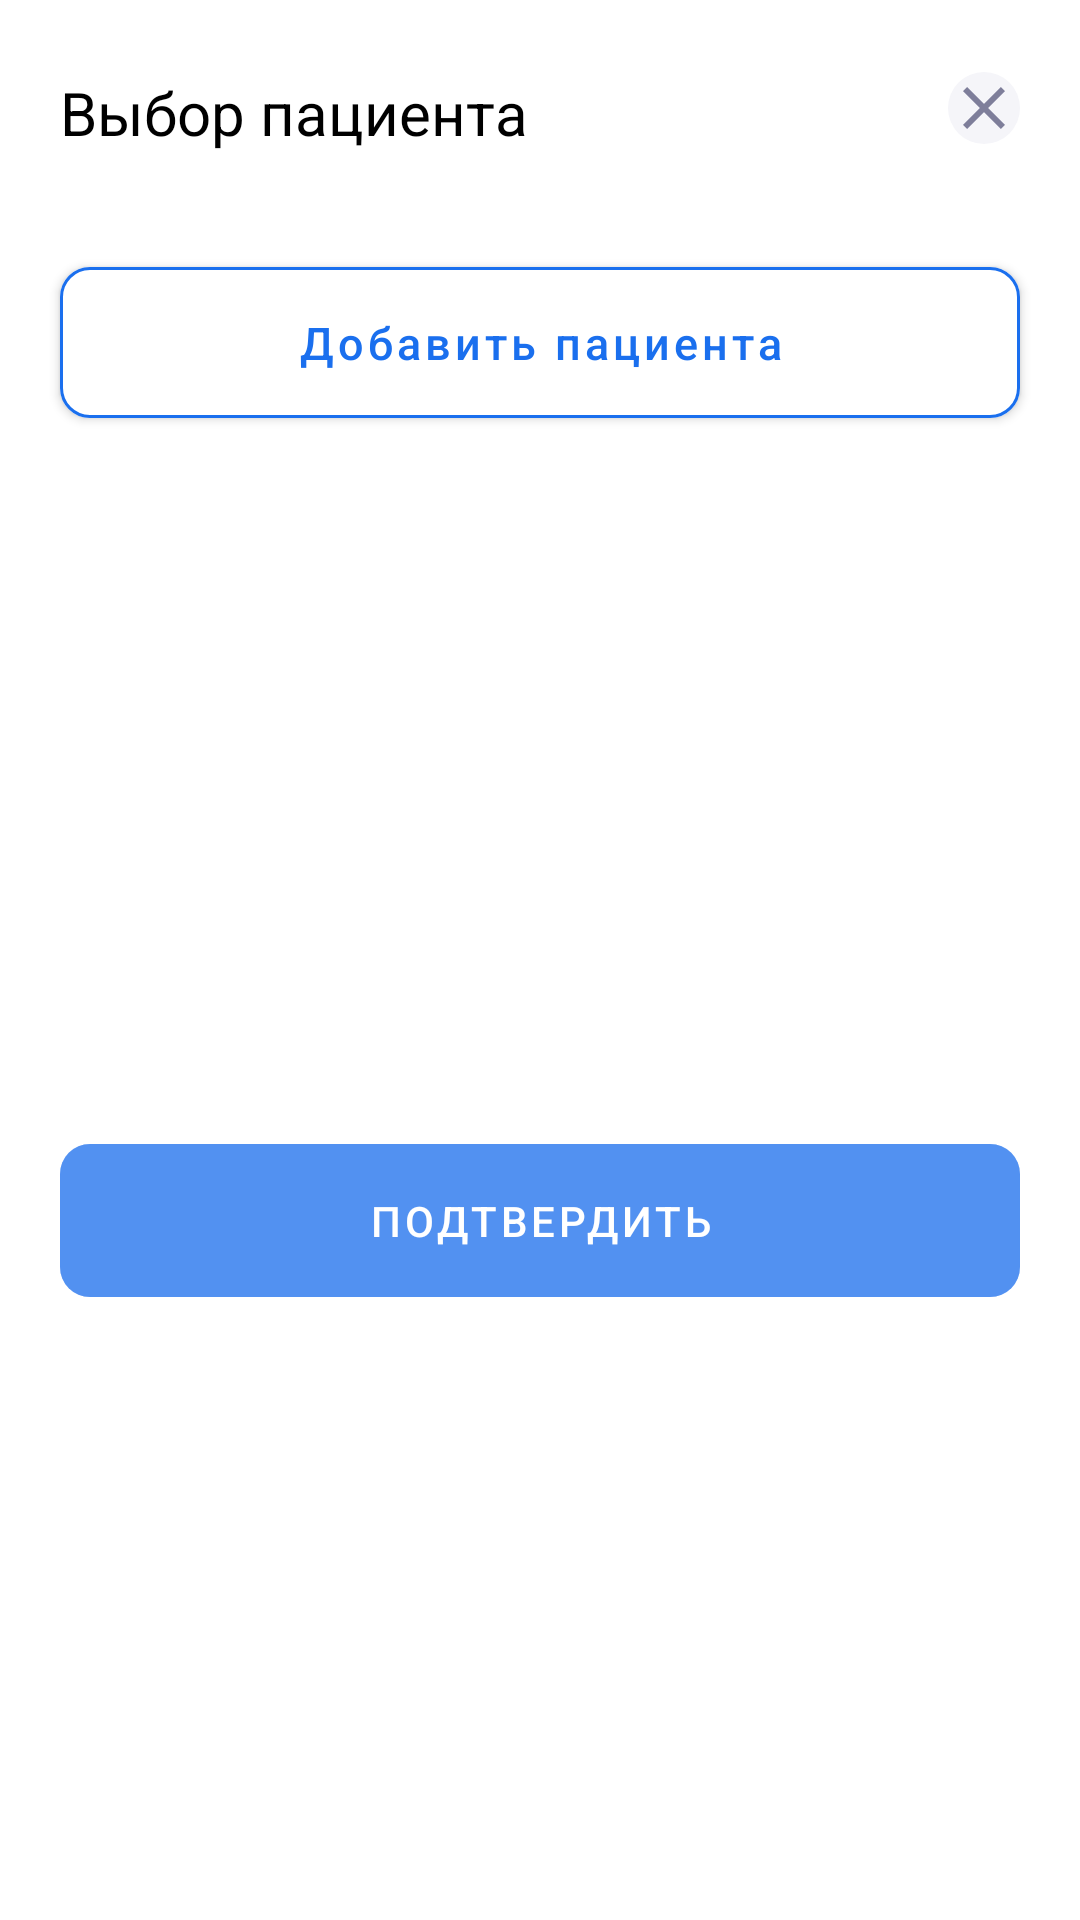

Icon bounding boxes for this 1080*1920 phone screenshot, format (x1, y1, x2, y2):
close: (948, 72, 1020, 144)
